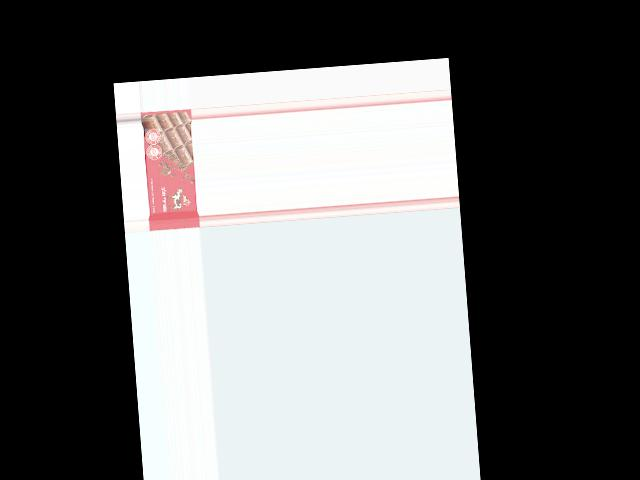chocolate: (139, 108, 199, 229)
